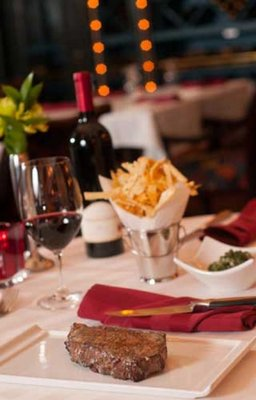sandwich: (110, 298, 254, 318)
sushi: (174, 215, 256, 295)
